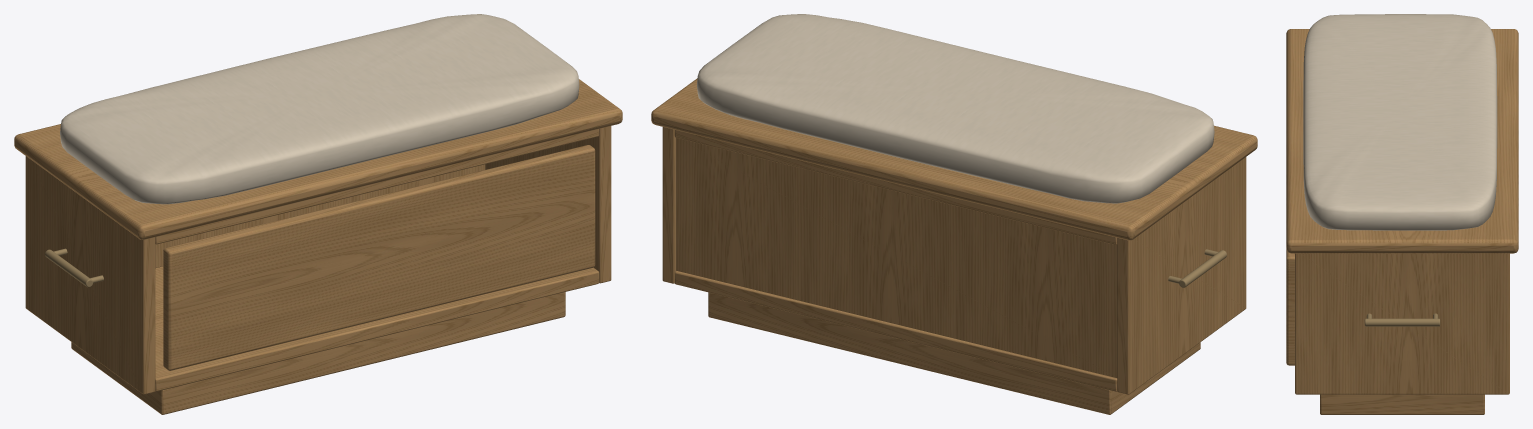
File: chest.glb
3 renders of one model, left to right at view 1: azimuth 30°, elevation 25°; view 2: azimuth 150°, elevation 25°; view 3: azimuth 270°, elevation 25°, orthographic. The views are drawn at different scales.
Visible parts, largest first — view 1: Case | horizontal panel, Lid | attached flax seat pad, End handle | grip; view 2: Case | horizontal panel, Lid | attached flax seat pad, End handle | grip; view 3: Case | horizontal panel, Lid | attached flax seat pad, End handle | grip.
Boxes of the visible parts, left/top/right/bottom form: Case | horizontal panel: left=14, top=79, right=622, bottom=414; Lid | attached flax seat pad: left=60, top=14, right=579, bottom=204; End handle | grip: left=45, top=248, right=103, bottom=287; Case | horizontal panel: left=651, top=78, right=1257, bottom=414; Lid | attached flax seat pad: left=697, top=14, right=1214, bottom=203; End handle | grip: left=1168, top=249, right=1226, bottom=287; Case | horizontal panel: left=1286, top=29, right=1518, bottom=414; Lid | attached flax seat pad: left=1303, top=14, right=1497, bottom=230; End handle | grip: left=1364, top=313, right=1440, bottom=326.
Bounding box in the file's own units: 1.2 × 0.5512 × 0.527.
Materials: 4 (2 with a texture image).
